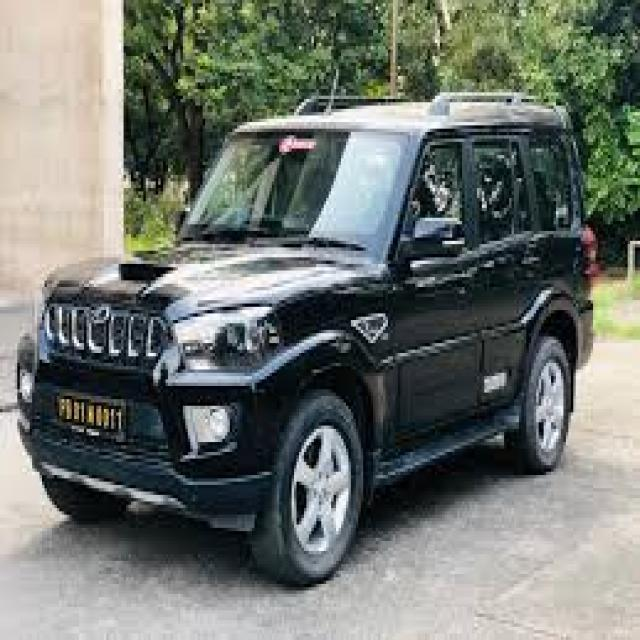cars: (14, 84, 604, 600)
